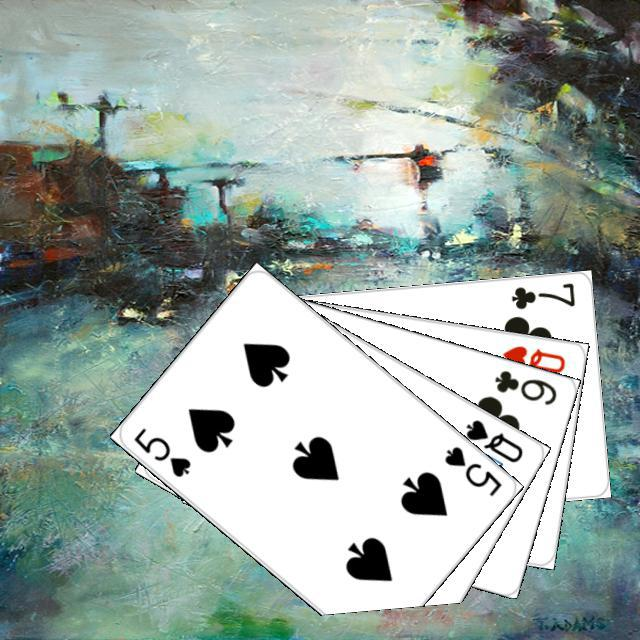5s: (439, 441, 504, 499), (128, 422, 193, 479)
6c: (489, 365, 559, 407)
7c: (506, 277, 577, 311)
Qh: (497, 340, 567, 375)
Qs: (460, 414, 525, 465)
